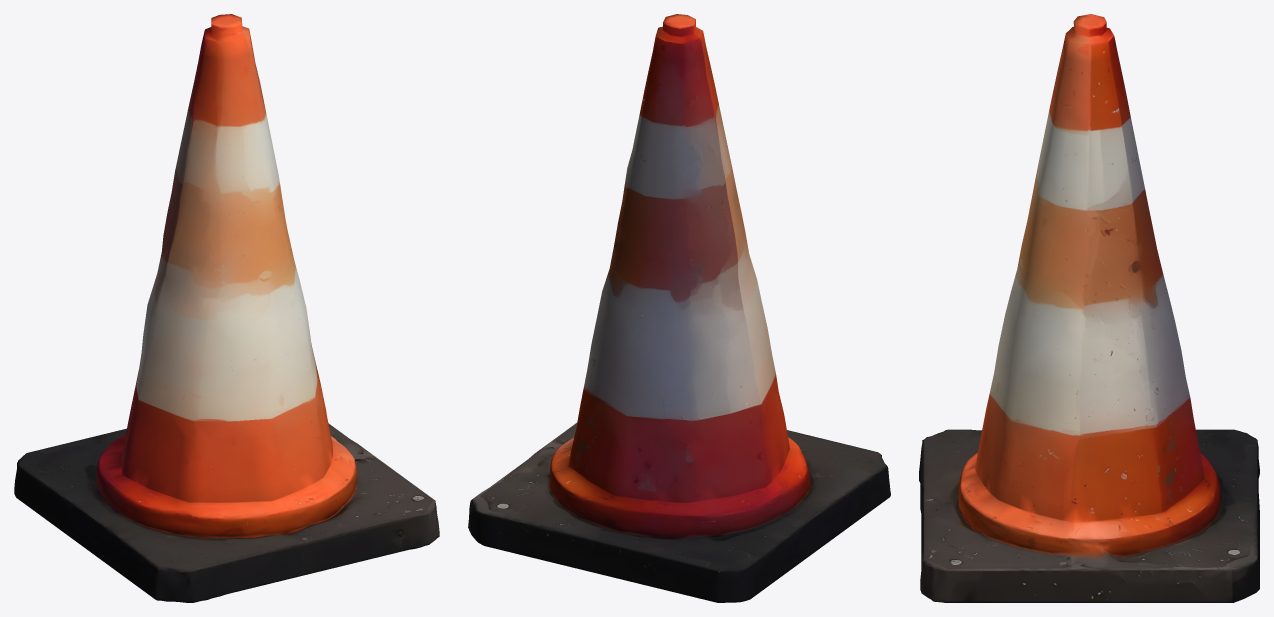
File: traffic_cone.glb
3 views of the same model, side by side, from view 1: azimuth 30°, elevation 25°; view 2: azimuth 150°, elevation 25°; view 3: azimuth 270°, elevation 25° (orthographic). The views are drawn at different scales.
Visible parts, largest first — view 1: tripo_node_f4b0b198-defa-4a76-9e64-a7052f9d9460; view 2: tripo_node_f4b0b198-defa-4a76-9e64-a7052f9d9460; view 3: tripo_node_f4b0b198-defa-4a76-9e64-a7052f9d9460.
Part boxes in pixels (box(x1,y1,x2,y2)): tripo_node_f4b0b198-defa-4a76-9e64-a7052f9d9460: box(14, 14, 439, 602); tripo_node_f4b0b198-defa-4a76-9e64-a7052f9d9460: box(468, 14, 890, 602); tripo_node_f4b0b198-defa-4a76-9e64-a7052f9d9460: box(919, 14, 1259, 602).
Bounding box in the file's own units: 0.3304 × 0.55 × 0.3326.
Materials: 1 (1 with a texture image).
